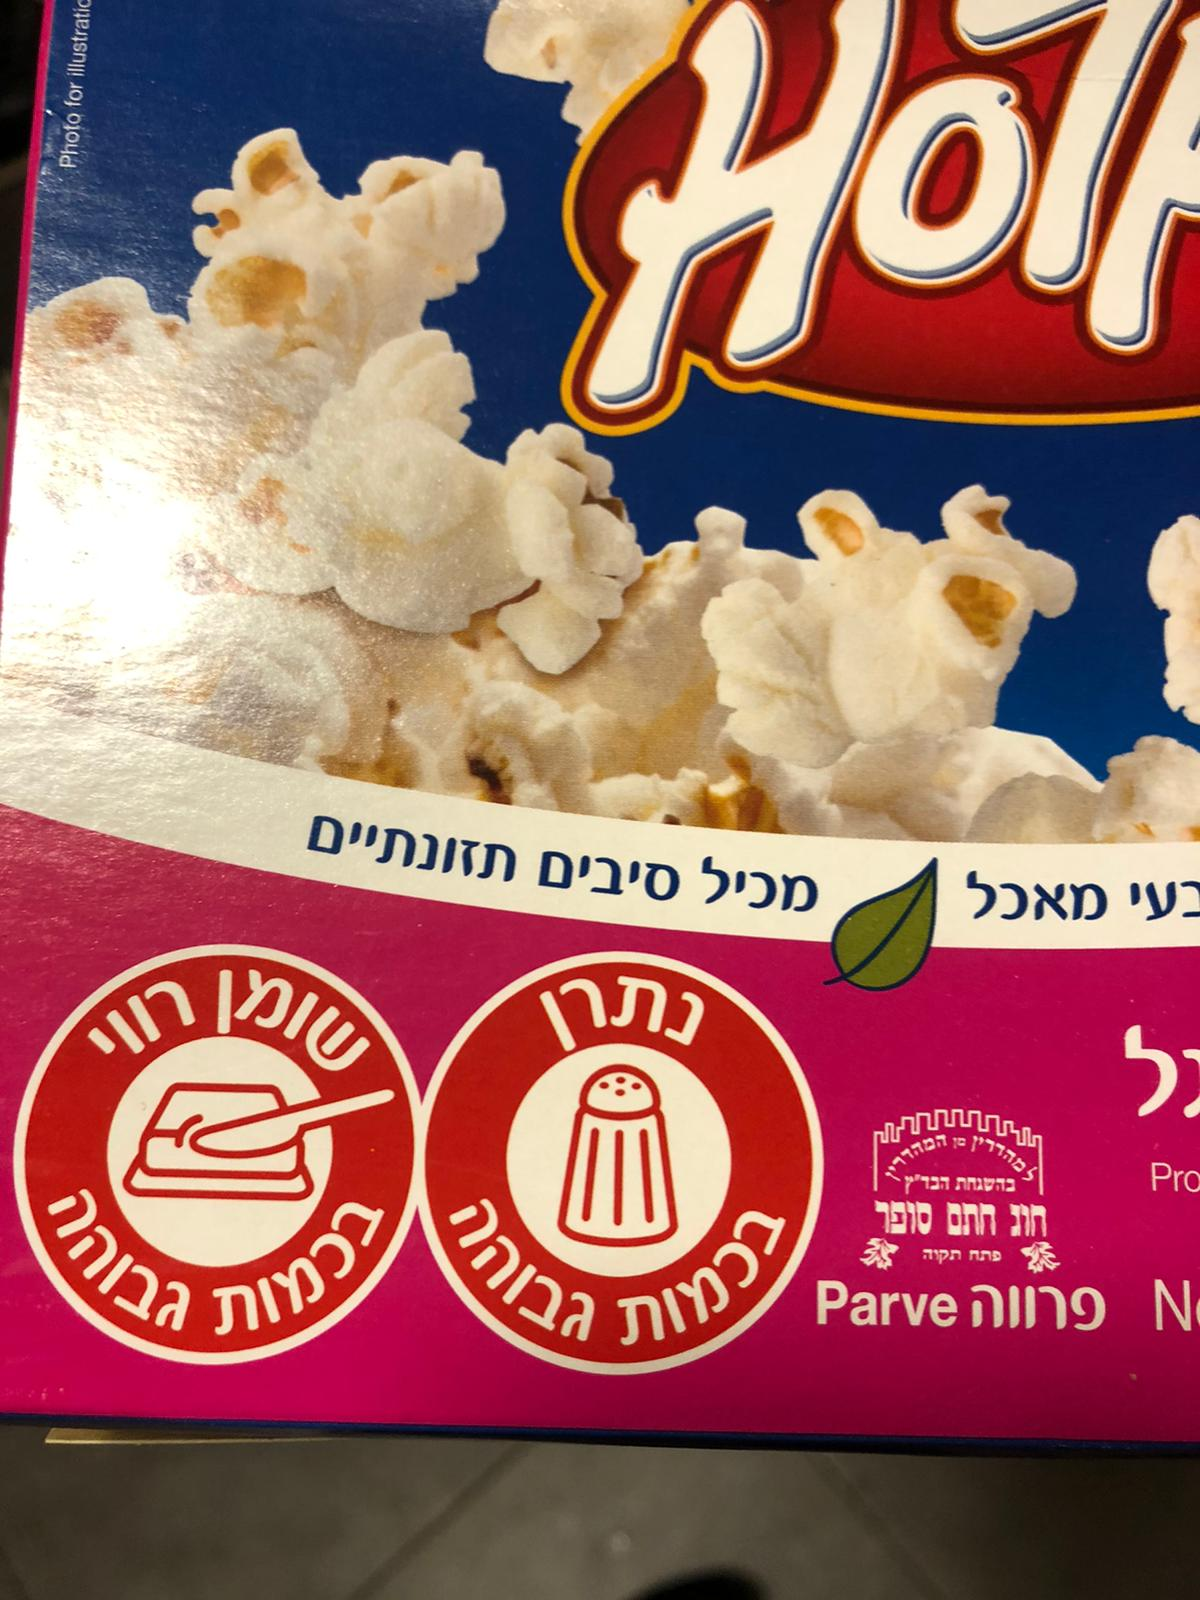fat: (11, 940, 422, 1369)
salt: (418, 947, 827, 1378)
